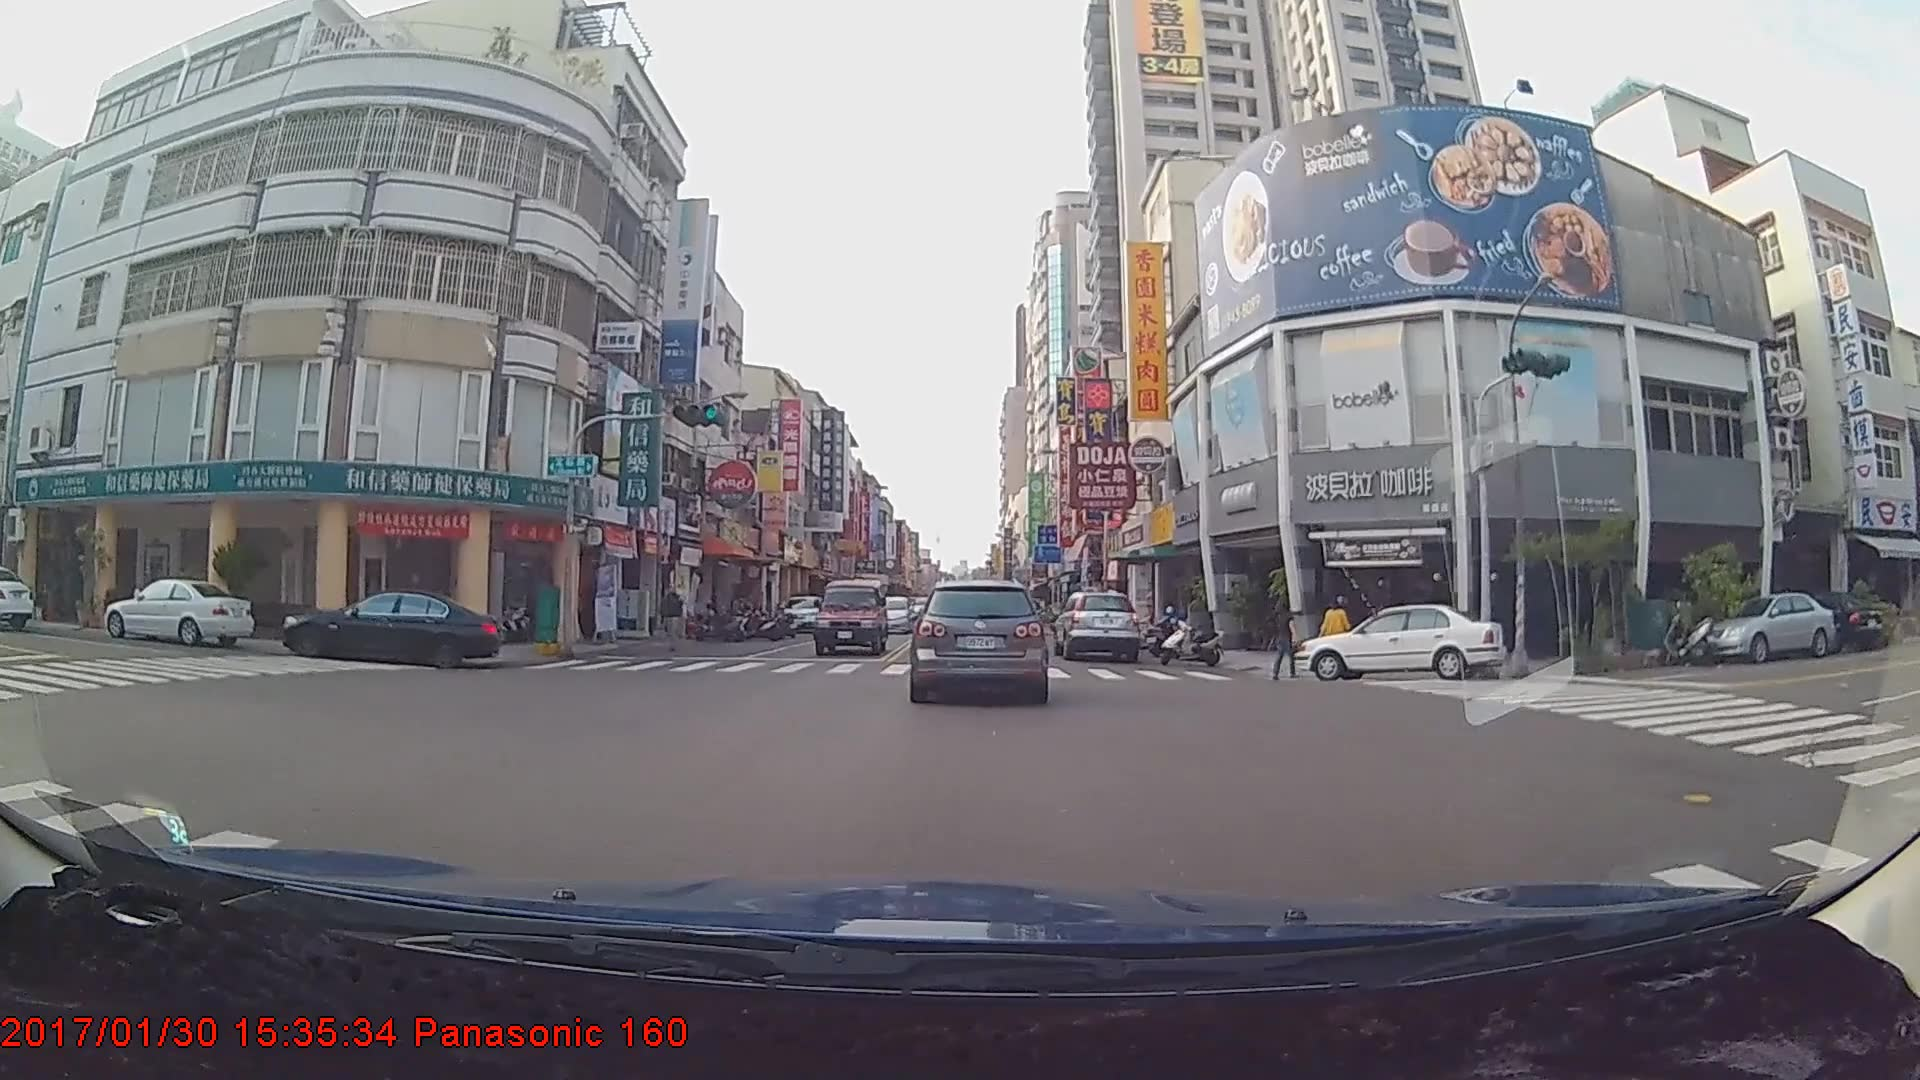pedestrian: (1319, 596, 1353, 674), (1271, 596, 1302, 681), (659, 584, 687, 652)
vehicle: (278, 587, 499, 668), (913, 578, 1046, 701), (1297, 603, 1506, 682), (104, 578, 253, 652), (1698, 591, 1834, 663), (1053, 590, 1141, 662), (811, 578, 887, 657), (867, 593, 912, 634), (777, 593, 825, 632)
